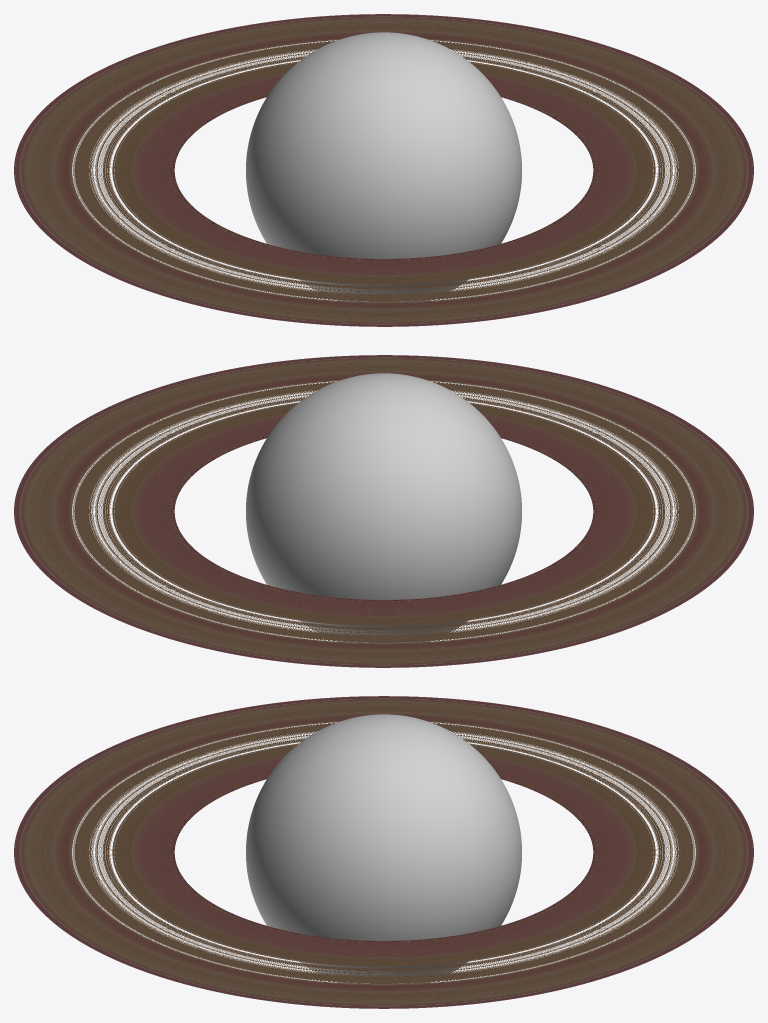
File: saturn.gltf
3 views of the same model, one above another, from view 1: azimuth 30°, elevation 25°; view 2: azimuth 150°, elevation 25°; view 3: azimuth 270°, elevation 25° (orthographic).
Visible parts, largest first — view 1: node_id32_1, node_id30_0; view 2: node_id32_1, node_id30_0; view 3: node_id32_1, node_id30_0.
Boxes of the visible parts, x1=… form: node_id32_1: x1=14, y1=14, x2=753, y2=326; node_id30_0: x1=246, y1=32, x2=521, y2=302; node_id32_1: x1=14, y1=355, x2=753, y2=667; node_id30_0: x1=246, y1=373, x2=521, y2=643; node_id32_1: x1=14, y1=696, x2=753, y2=1008; node_id30_0: x1=246, y1=714, x2=521, y2=984.
Bounding box in the file's own units: 11.5 × 4.29 × 11.5.
